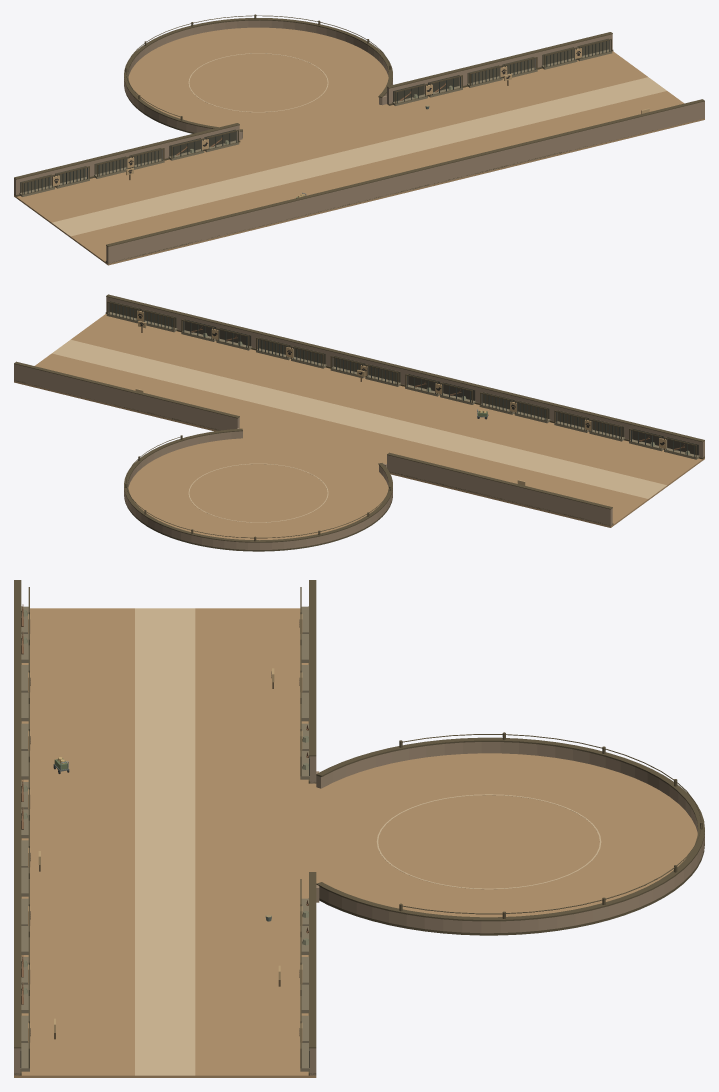
File: zoo.glb
3 views of the same model, one above another, from view 1: azimuth 30°, elevation 25°; view 2: azimuth 150°, elevation 25°; view 3: azimuth 270°, elevation 25° (orthographic). The views are drawn at different scales.
Visible parts, largest first — view 1: ZO_Floor64 (×8), ZO_Arena, ZO_WallA (×9), ZO_WallB (×5); view 2: ZO_Floor64 (×8), ZO_Arena, ZO_WallA (×9), ZO_WallB (×5); view 3: ZO_Floor64 (×8), ZO_Arena, ZO_WallA (×9), ZO_WallB (×5).
Boxes of the visible parts, bbox=[...] form: ZO_Floor64 (×8): bbox=[14, 51, 704, 265]; ZO_Arena: bbox=[124, 14, 392, 139]; ZO_WallA (×9): bbox=[14, 32, 704, 245]; ZO_WallB (×5): bbox=[105, 68, 630, 263]; ZO_Floor64 (×8): bbox=[14, 314, 704, 527]; ZO_Arena: bbox=[124, 428, 392, 551]; ZO_WallA (×9): bbox=[14, 294, 629, 526]; ZO_WallB (×5): bbox=[163, 312, 704, 489]; ZO_Floor64 (×8): bbox=[14, 608, 316, 1077]; ZO_Arena: bbox=[316, 732, 704, 935]; ZO_WallA (×9): bbox=[14, 580, 316, 1075]; ZO_WallB (×5): bbox=[14, 580, 316, 1014].
Bounding box in the file's own units: 512 × 15.7 × 320.
1 material, 1 textured.
